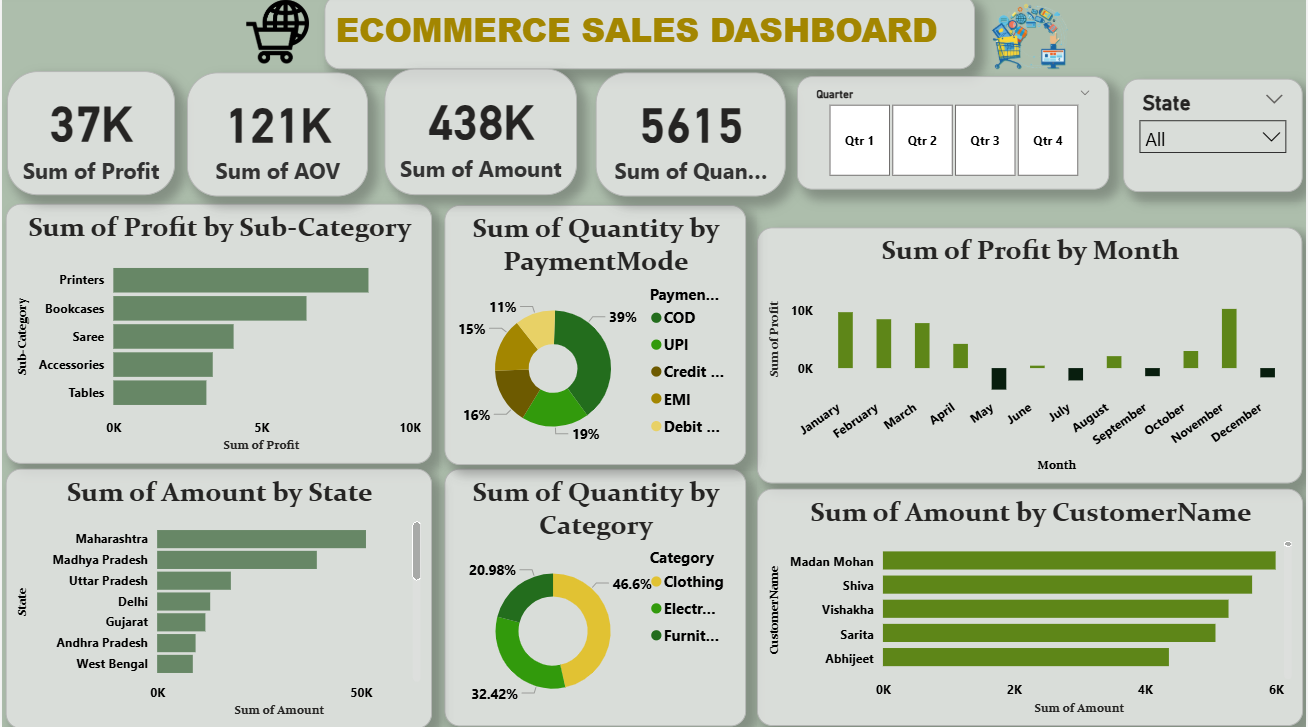

This screenshot's page, from the dashboard's own definition file:
{"tool":"powerbi","page":{"name":"Page 1","canvas":[1280,720],"ordinal":0},"visuals":[{"type":"textbox","box":[317,0,638.1,72.7],"z":0},{"type":"clusteredColumnChart","fields":{"Category":["Orders.Order Date.Variation.Date Hierarchy.Month"],"Y":["Sum(Details.Profit)"]},"box":[741.1,228.2,535,251.5],"z":1000},{"type":"barChart","fields":{"Category":["Details.Sub-Category"],"Y":["Sum(Details.Profit)"]},"box":[3.7,204.9,418.4,255.2],"z":2000},{"type":"donutChart","fields":{"Category":["Details.Category"],"Y":["Sum(Details.Quantity)"]},"box":[434.4,465,295.7,252.8],"z":3000},{"type":"donutChart","fields":{"Category":["Details.PaymentMode"],"Y":["Sum(Details.Quantity)"]},"box":[434,206.1,295.7,255],"z":4000},{"type":"card","fields":{"Values":["Sum(Details.Amount)"]},"box":[375.5,72.4,189,123.9],"z":5000},{"type":"card","fields":{"Values":["Sum(Details.Profit)"]},"box":[4.9,74.8,164.4,121.5],"z":6000},{"type":"card","fields":{"Values":["Sum(Details.Quantity)"]},"box":[582.8,76.1,186.5,121.5],"z":7000},{"type":"card","fields":{"Values":["Sum(Details.AOV)"]},"box":[181.6,76.1,177.9,121.5],"z":8000},{"type":"barChart","fields":{"Category":["Orders.State"],"Y":["Sum(Details.Amount)"]},"box":[3.7,464.8,418.4,255.2],"z":9000},{"type":"barChart","fields":{"Category":["Orders.CustomerName"],"Y":["Sum(Details.Amount)"]},"box":[741.1,484.7,536.2,233.1],"z":10000},{"type":"slicer","fields":{"Values":["Orders.Order Date.Variation.Date Hierarchy.Quarter"]},"box":[780.8,79.6,306,111.1],"z":11000},{"type":"slicer","fields":{"Values":["Orders.State"]},"box":[1100.5,82.3,175.6,111.1],"z":12000},{"type":"image","box":[876.7,0,265.5,82.8],"z":12001},{"type":"image","box":[209,0,123.6,72.3],"z":12002}]}

Visuals, with their boxes in screenshot pixels (x1, y1, x2, y2), scaled from the page's 1280x720 canvas onto the 1308x727 screenshot:
textbox: crop(324, 0, 976, 73)
clusteredColumnChart - Orders.Order Date.Variation.Date Hierarchy.Month x Sum(Details.Profit): crop(757, 230, 1304, 484)
barChart - Details.Sub-Category x Sum(Details.Profit): crop(4, 207, 431, 465)
donutChart - Details.Category x Sum(Details.Quantity): crop(444, 470, 746, 725)
donutChart - Details.PaymentMode x Sum(Details.Quantity): crop(443, 208, 746, 466)
card - Sum(Details.Amount): crop(384, 73, 577, 198)
card - Sum(Details.Profit): crop(5, 76, 173, 198)
card - Sum(Details.Quantity): crop(596, 77, 786, 200)
card - Sum(Details.AOV): crop(186, 77, 367, 200)
barChart - Orders.State x Sum(Details.Amount): crop(4, 469, 431, 726)
barChart - Orders.CustomerName x Sum(Details.Amount): crop(757, 489, 1305, 725)
slicer - Orders.Order Date.Variation.Date Hierarchy.Quarter: crop(798, 80, 1111, 193)
slicer - Orders.State: crop(1125, 83, 1304, 195)
image: crop(896, 0, 1167, 84)
image: crop(214, 0, 340, 73)
